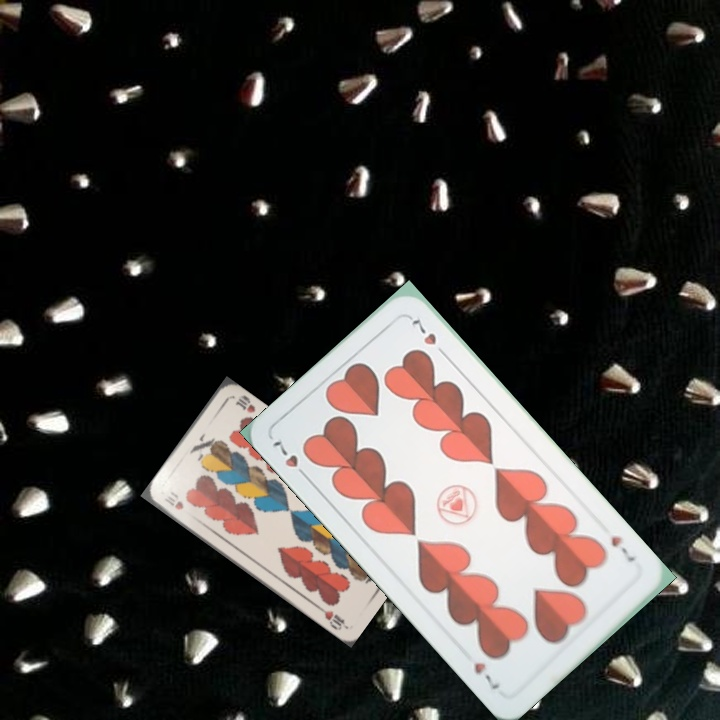H10: (160, 491, 186, 513)
H7: (268, 436, 313, 483), (606, 531, 638, 566)
